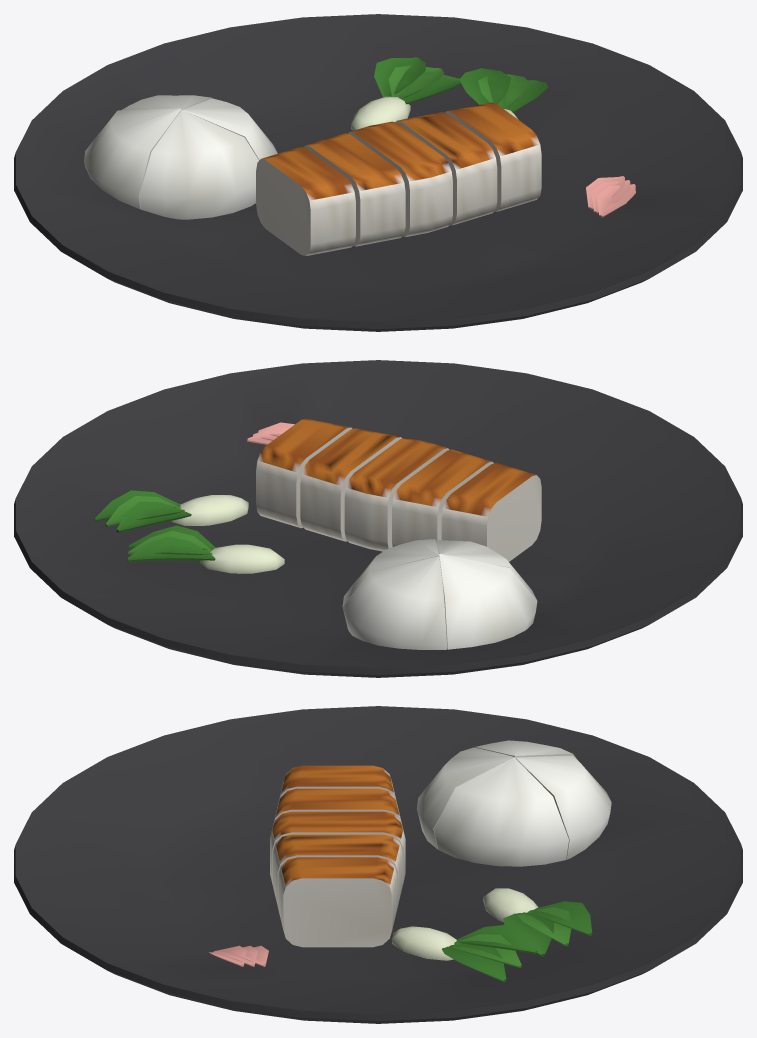
The model's file is dish-black-cod-lod1.glb.
3 views of the same model, one above another, from view 1: azimuth 30°, elevation 25°; view 2: azimuth 150°, elevation 25°; view 3: azimuth 270°, elevation 25° (orthographic).
Visible parts, largest first — view 1: black-cod.lod1__table dark glaze, black-cod.lod1__food glaze, black-cod.lod1__food; view 2: black-cod.lod1__table dark glaze, black-cod.lod1__food glaze, black-cod.lod1__food; view 3: black-cod.lod1__table dark glaze, black-cod.lod1__food, black-cod.lod1__food glaze.
Part boxes in pixels (box(x1,y1,x2,y2)): black-cod.lod1__table dark glaze: box(14, 14, 742, 331); black-cod.lod1__food glaze: box(256, 102, 541, 255); black-cod.lod1__food: box(84, 57, 635, 219); black-cod.lod1__table dark glaze: box(14, 360, 742, 677); black-cod.lod1__food glaze: box(256, 419, 541, 561); black-cod.lod1__food: box(94, 422, 537, 649); black-cod.lod1__table dark glaze: box(14, 706, 742, 1023); black-cod.lod1__food: box(209, 740, 611, 982); black-cod.lod1__food glaze: box(270, 765, 405, 947).
Bounding box in the file's own units: 0.27 × 0.0404 × 0.2685.
